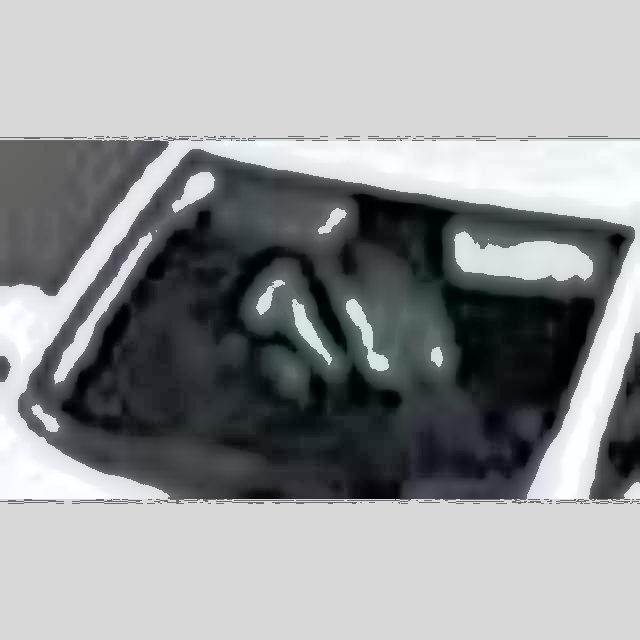pakai: (256, 235, 469, 423)
